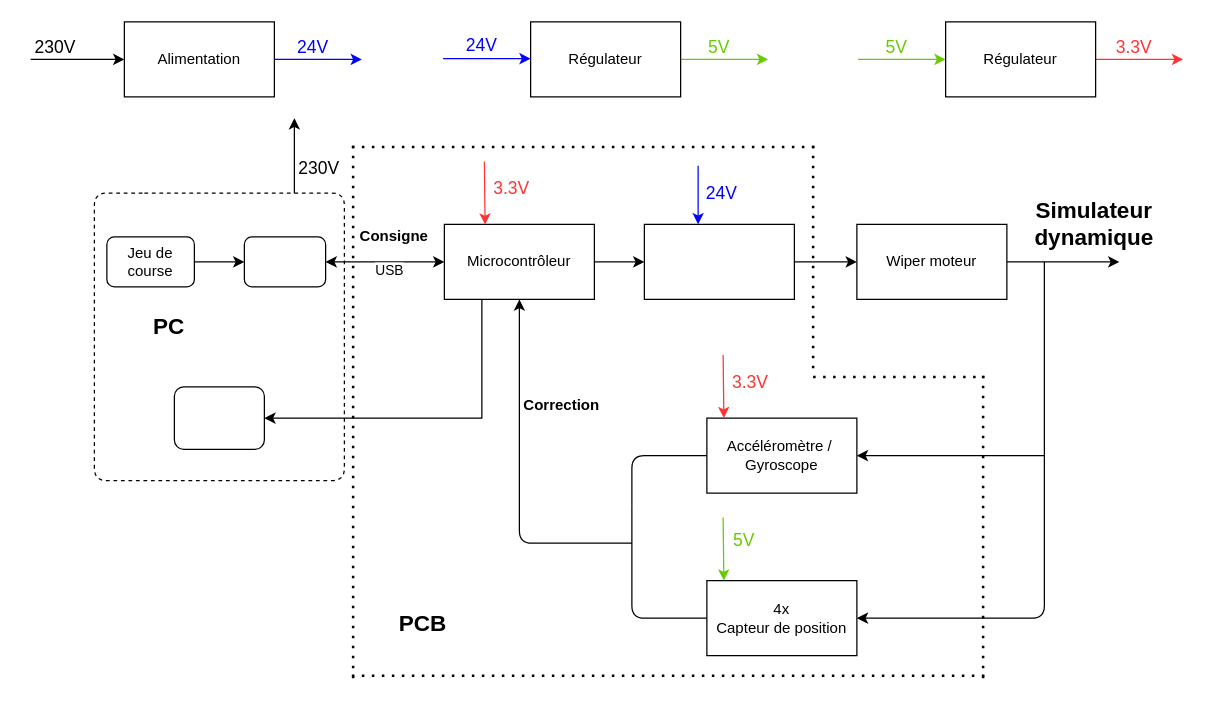
The diagram is 1215 pixels wide and 703 high, and some of its shapes have lost their labels. Each missing label, with the centre of its shape:
Application C#: [218,417]
Application Simtools: [284,261]
Driver moteur: [718,261]
